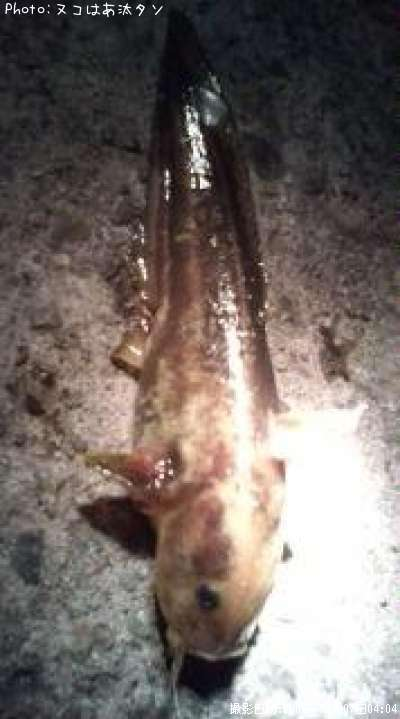gonzui: (120, 1, 317, 670)
